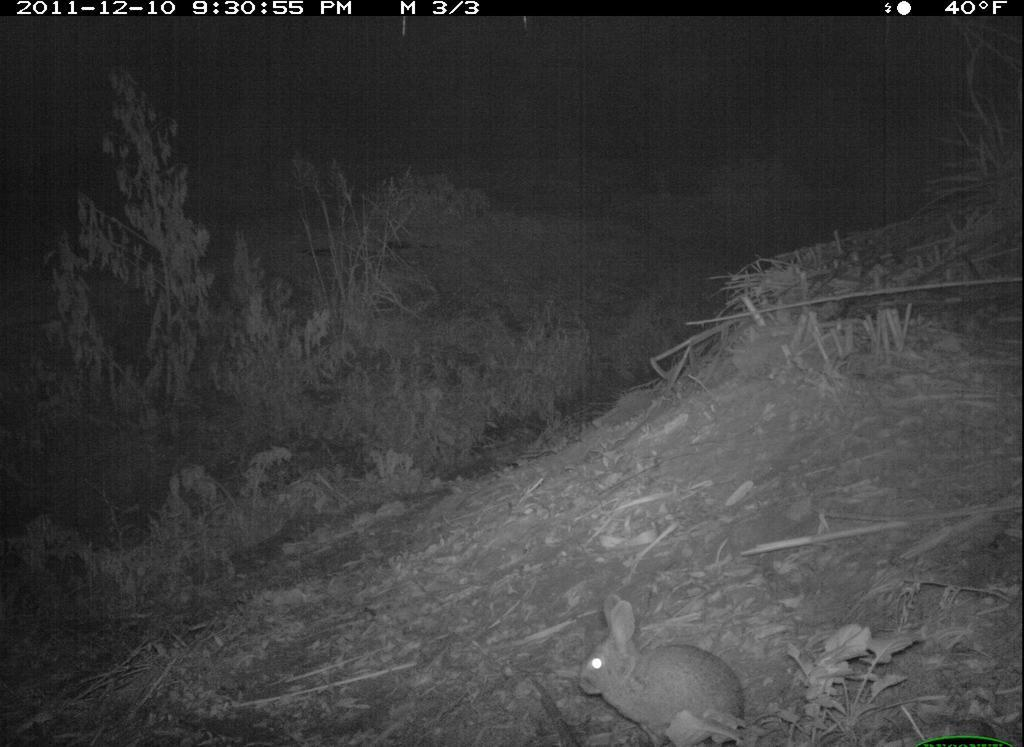rabbit: (569, 589, 749, 743)
